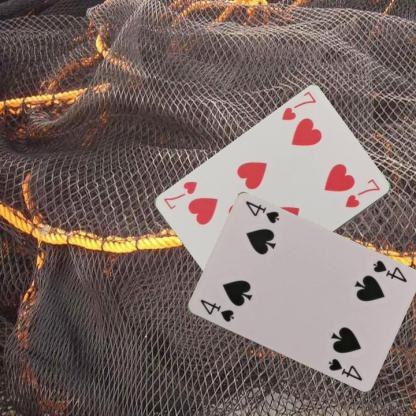4s: (197, 296, 235, 324), (370, 258, 408, 284)
7h: (279, 89, 318, 122)
